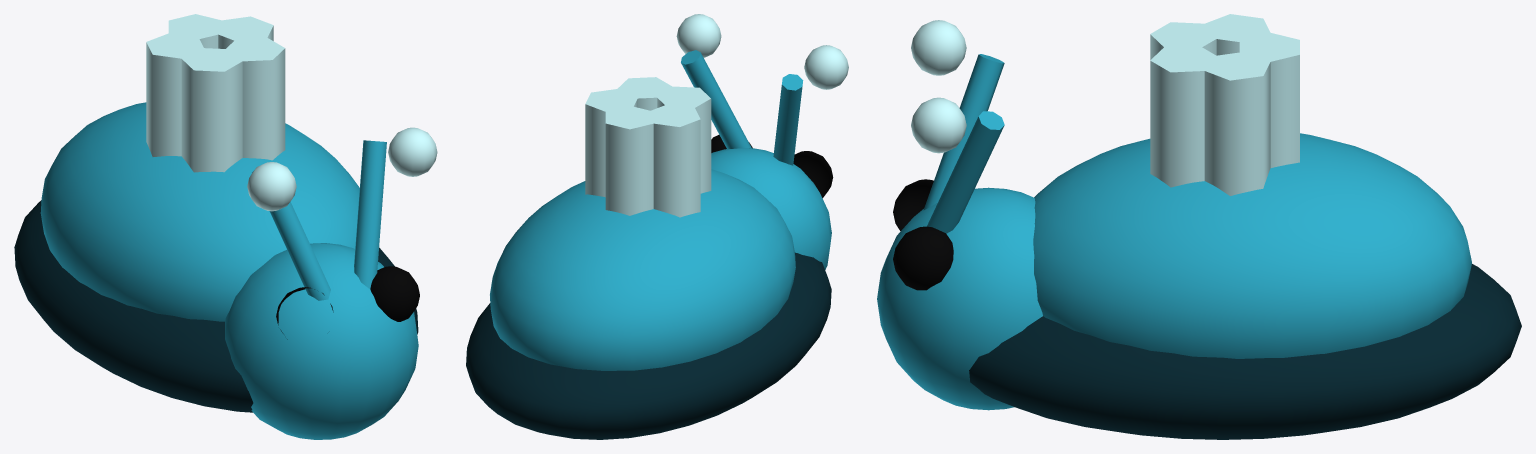
File: escarcha.obj
3 renders of one model, left to right at view 1: azimuth 30°, elevation 25°; view 2: azimuth 150°, elevation 25°; view 3: azimuth 270°, elevation 25°, orthographic. The views are drawn at different scales.
Size of the model in its own units: 0.424 by 0.4172 by 0.6858.
